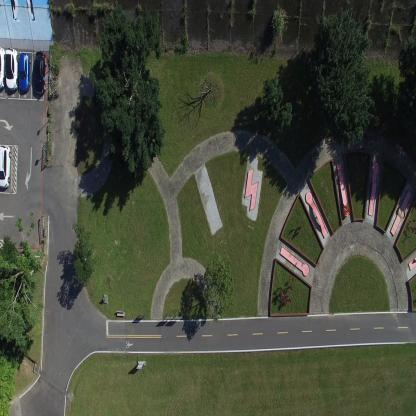car: (33, 50, 47, 94), (4, 47, 18, 91), (0, 145, 12, 190), (19, 51, 31, 92), (0, 45, 5, 90)
